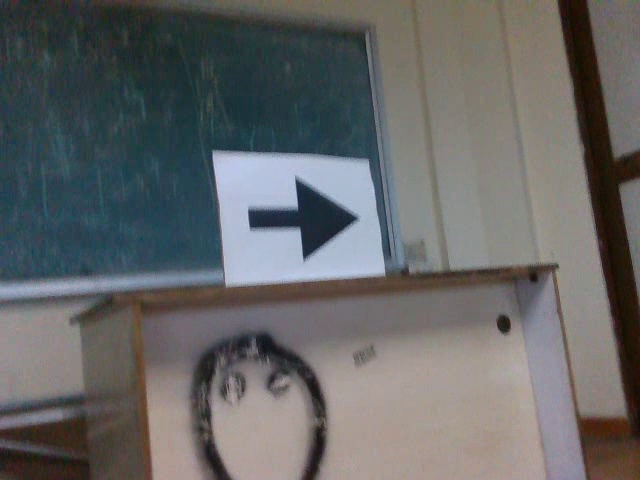Right: (239, 173, 365, 265)
